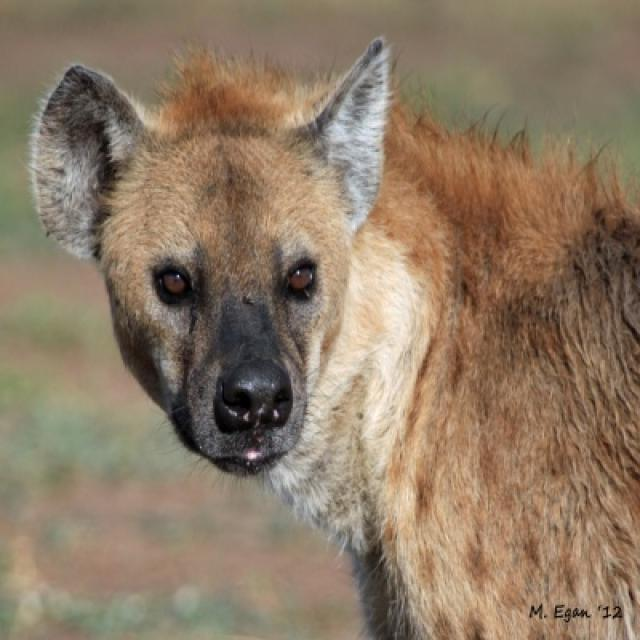hyena: (26, 37, 638, 638)
